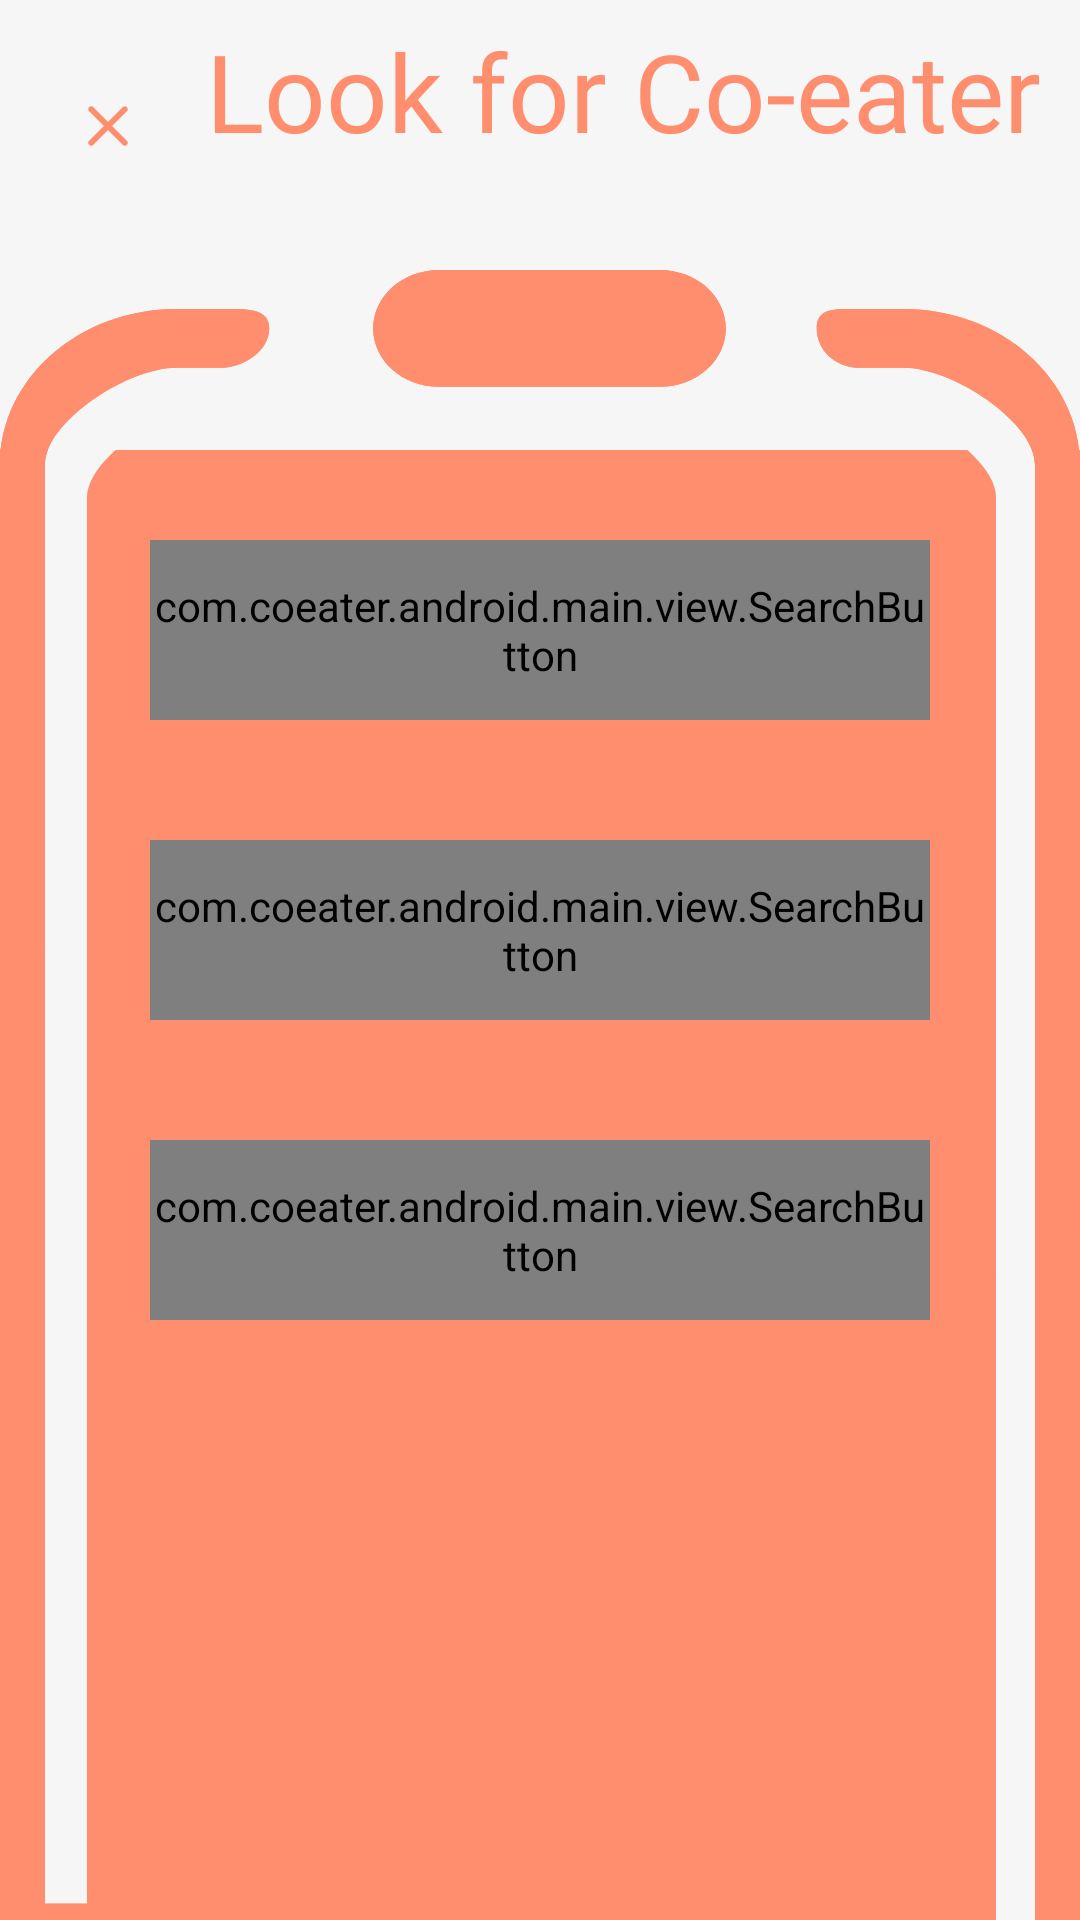

Named icons in this screenshot (1080 x 1920) and their bounding boxes, (left=x1, top=y1, right=x2, bottom=y2):
exit: (left=88, top=106, right=128, bottom=146)
